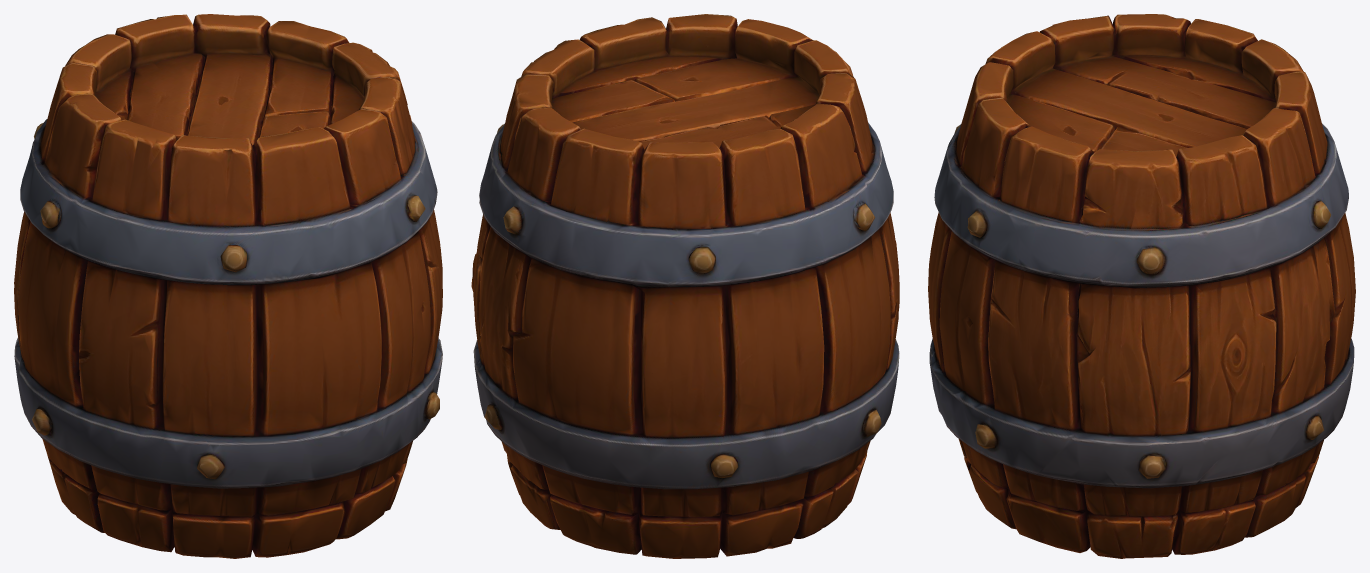
Rendered from barrel.glb.
3 renders of one model, left to right at view 1: azimuth 30°, elevation 25°; view 2: azimuth 150°, elevation 25°; view 3: azimuth 270°, elevation 25°, orthographic.
Parts seen in each view (by area): view 1: tripo_node_bc379e6e-0530-4597-9ede-c0deb23a6101; view 2: tripo_node_bc379e6e-0530-4597-9ede-c0deb23a6101; view 3: tripo_node_bc379e6e-0530-4597-9ede-c0deb23a6101.
Boxes of the visible parts, left/top/right/bottom form: tripo_node_bc379e6e-0530-4597-9ede-c0deb23a6101: left=14, top=14, right=442, bottom=558; tripo_node_bc379e6e-0530-4597-9ede-c0deb23a6101: left=471, top=14, right=899, bottom=558; tripo_node_bc379e6e-0530-4597-9ede-c0deb23a6101: left=928, top=14, right=1355, bottom=558.
Bounding box in the file's own units: 0.9728 × 1 × 0.949.
Materials: 1 (1 with a texture image).
